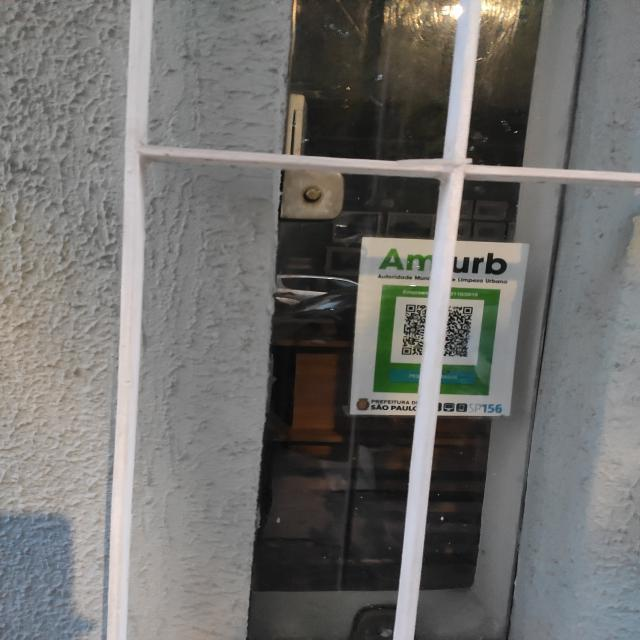qrcode: (402, 305, 474, 358)
